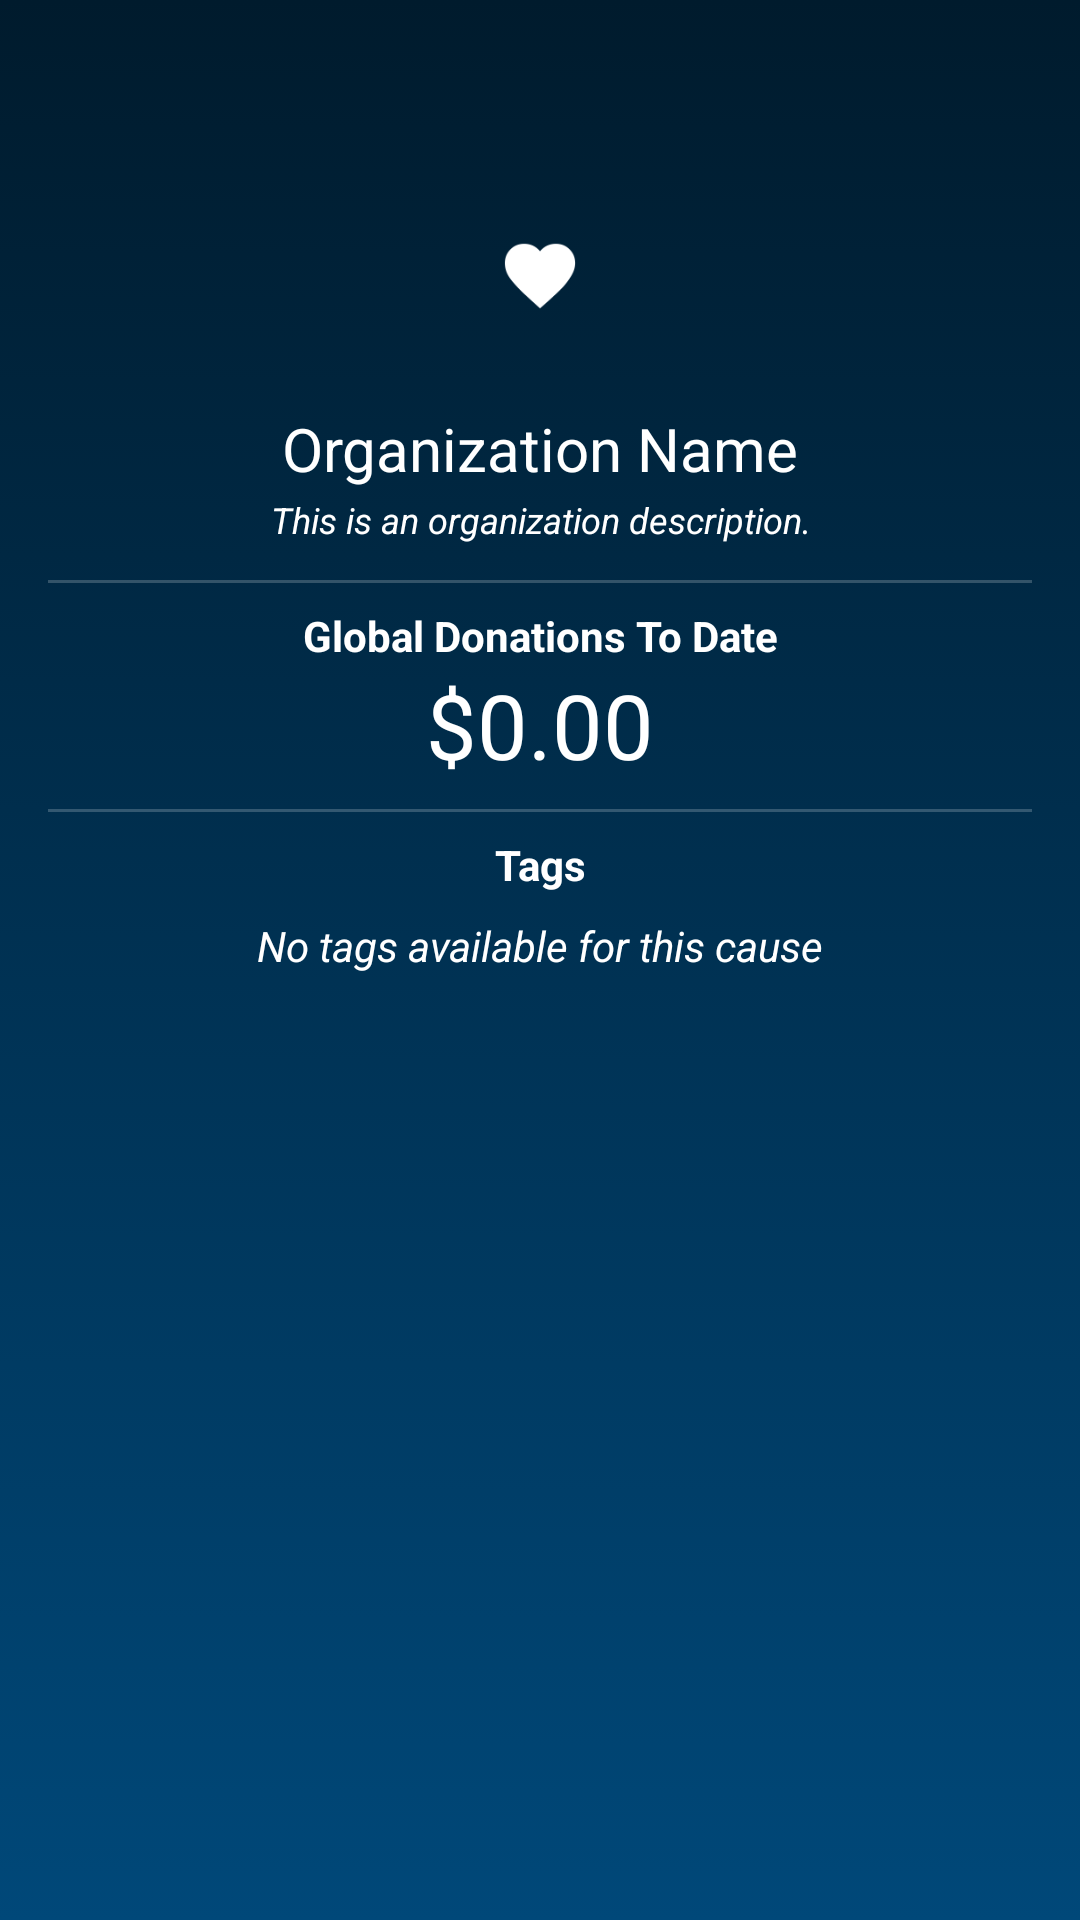

Named icons in this screenshot (1080w x 1920h) and their centers, (x=x, y=y):
heart: (x=540, y=276)
